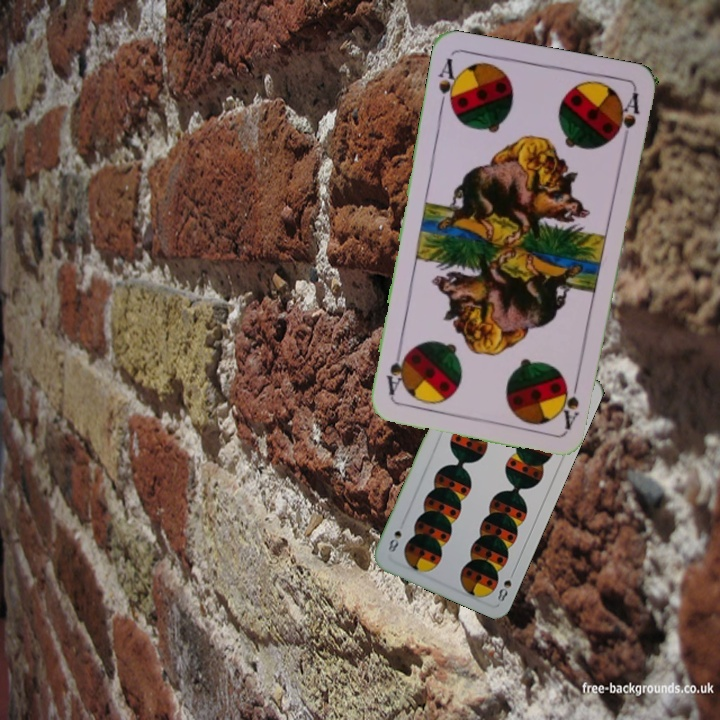S8: (493, 566, 518, 604)
SA: (434, 54, 463, 114), (561, 372, 582, 431)
